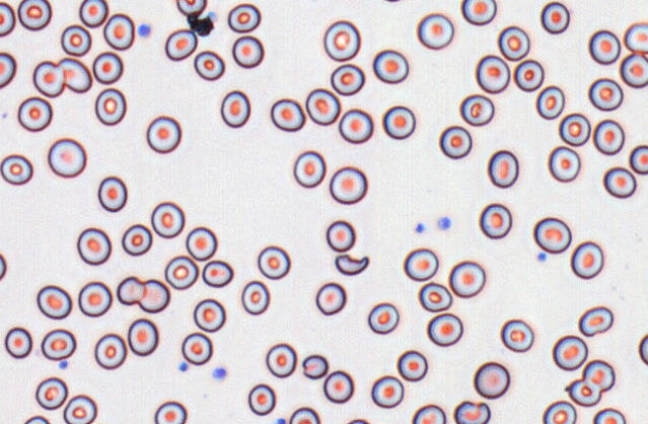PLT: (438, 216, 455, 231), (137, 22, 151, 38), (212, 367, 227, 381), (414, 221, 429, 234), (535, 253, 549, 262), (178, 361, 188, 372), (59, 359, 68, 368)
RBC: (47, 137, 86, 178), (323, 20, 360, 61), (329, 166, 367, 204), (473, 361, 510, 399), (416, 12, 454, 49), (448, 260, 485, 298), (533, 216, 571, 253), (475, 54, 510, 93), (76, 227, 111, 265), (146, 115, 181, 153), (570, 240, 604, 279), (552, 334, 588, 370), (305, 88, 340, 125), (57, 57, 92, 93), (17, 96, 52, 132), (36, 284, 72, 319), (372, 49, 408, 84), (426, 312, 463, 346), (150, 201, 184, 238), (293, 150, 326, 188), (338, 108, 373, 143), (78, 281, 112, 317), (32, 60, 65, 97), (547, 145, 580, 182), (479, 202, 512, 239), (94, 87, 126, 125), (487, 149, 518, 188), (164, 255, 198, 290), (403, 247, 438, 281), (588, 77, 623, 111), (94, 333, 127, 369), (497, 25, 530, 61), (127, 318, 158, 356), (220, 89, 250, 128), (500, 318, 534, 352), (438, 125, 472, 159), (459, 93, 494, 126), (270, 98, 305, 131), (588, 29, 621, 64), (40, 328, 76, 360), (103, 13, 134, 50), (370, 375, 404, 408), (330, 63, 364, 96), (257, 245, 290, 279), (382, 105, 415, 139), (138, 278, 170, 313), (265, 342, 296, 378), (593, 119, 624, 155), (97, 175, 127, 212), (582, 359, 615, 392), (164, 28, 197, 61), (231, 35, 264, 68), (35, 376, 67, 410), (185, 226, 217, 260), (193, 298, 225, 332), (558, 112, 590, 146), (578, 305, 613, 336), (0, 153, 33, 185), (322, 370, 354, 403), (603, 166, 636, 198), (418, 281, 452, 312), (315, 281, 346, 315), (367, 302, 399, 334), (92, 51, 123, 84), (181, 332, 212, 365), (513, 58, 544, 91), (17, 0, 51, 30), (535, 85, 565, 119), (566, 378, 601, 407), (241, 280, 270, 315), (60, 24, 91, 56), (396, 349, 427, 381), (121, 223, 152, 255), (540, 1, 570, 34), (325, 219, 355, 252), (227, 3, 260, 33), (63, 394, 97, 423), (619, 53, 647, 88), (193, 50, 224, 80), (247, 383, 276, 415), (461, 0, 497, 25), (201, 259, 233, 287), (4, 326, 32, 358), (623, 21, 647, 55), (116, 276, 144, 305), (78, 0, 108, 27), (542, 400, 576, 423), (154, 400, 187, 423), (411, 403, 446, 423), (301, 354, 328, 379), (187, 13, 214, 36), (0, 51, 16, 88), (592, 407, 626, 423), (629, 144, 647, 174), (289, 406, 320, 423), (0, 1, 15, 36), (176, 0, 206, 16), (638, 333, 647, 365), (24, 415, 50, 423), (0, 252, 7, 280), (346, 418, 369, 423), (273, 417, 286, 423), (382, 0, 402, 3)
Schistocyte: (452, 398, 493, 424), (334, 253, 369, 276)
